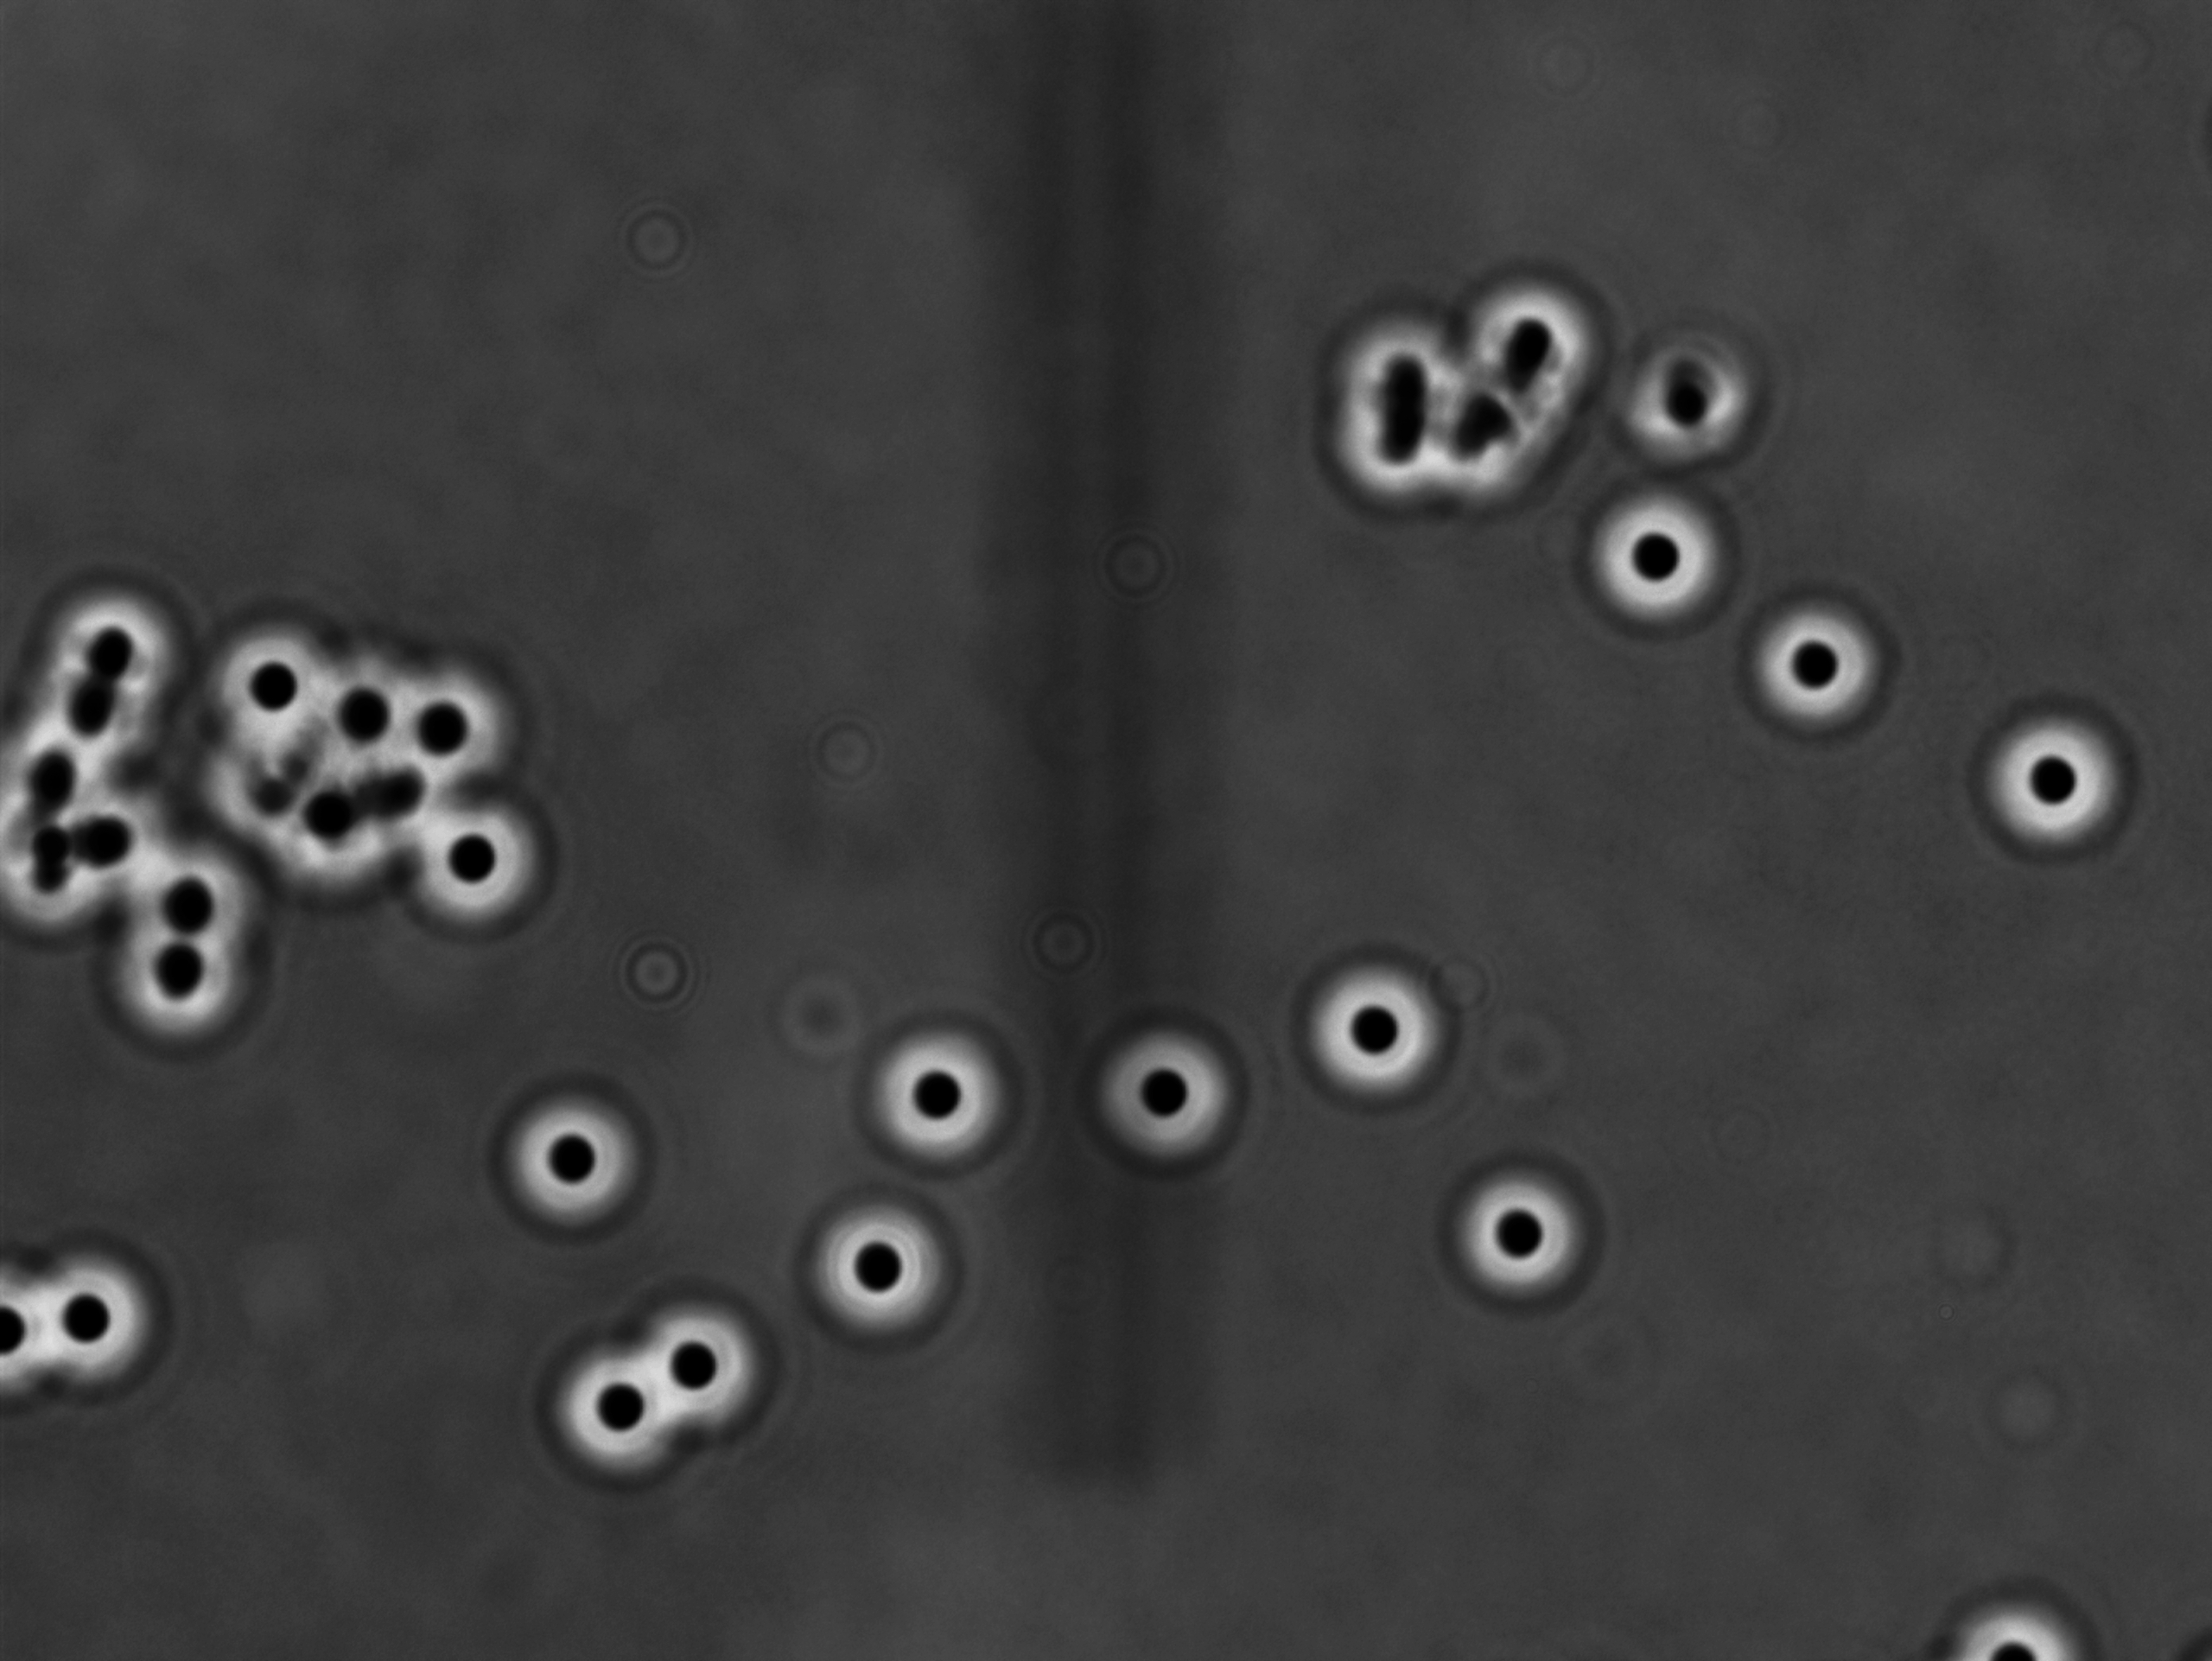depth:-40: (1722, 567, 1915, 743), (1277, 947, 1472, 1117), (1567, 462, 1743, 646), (1090, 1010, 1266, 1183), (1964, 694, 2137, 865), (844, 1015, 1022, 1181), (1429, 1152, 1600, 1321), (795, 1192, 972, 1354), (26, 1237, 192, 1399), (529, 1333, 694, 1494), (490, 1071, 652, 1227), (618, 1291, 775, 1445), (399, 797, 555, 940)
